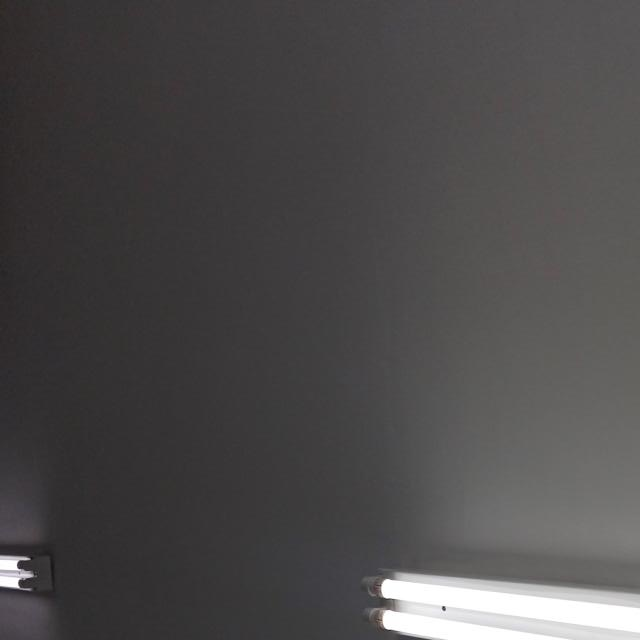fluorescent tube: (332, 533, 640, 640), (0, 515, 76, 640)
